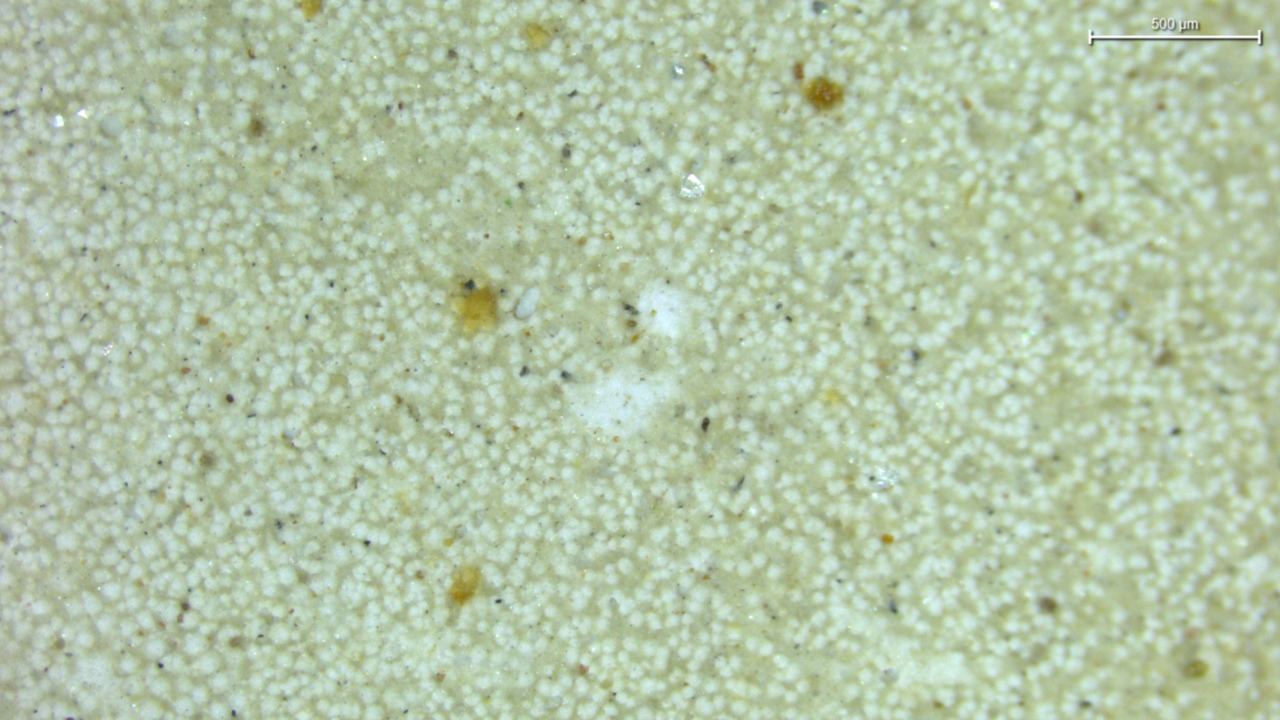microplastic_fragment: (515, 287, 540, 318)
